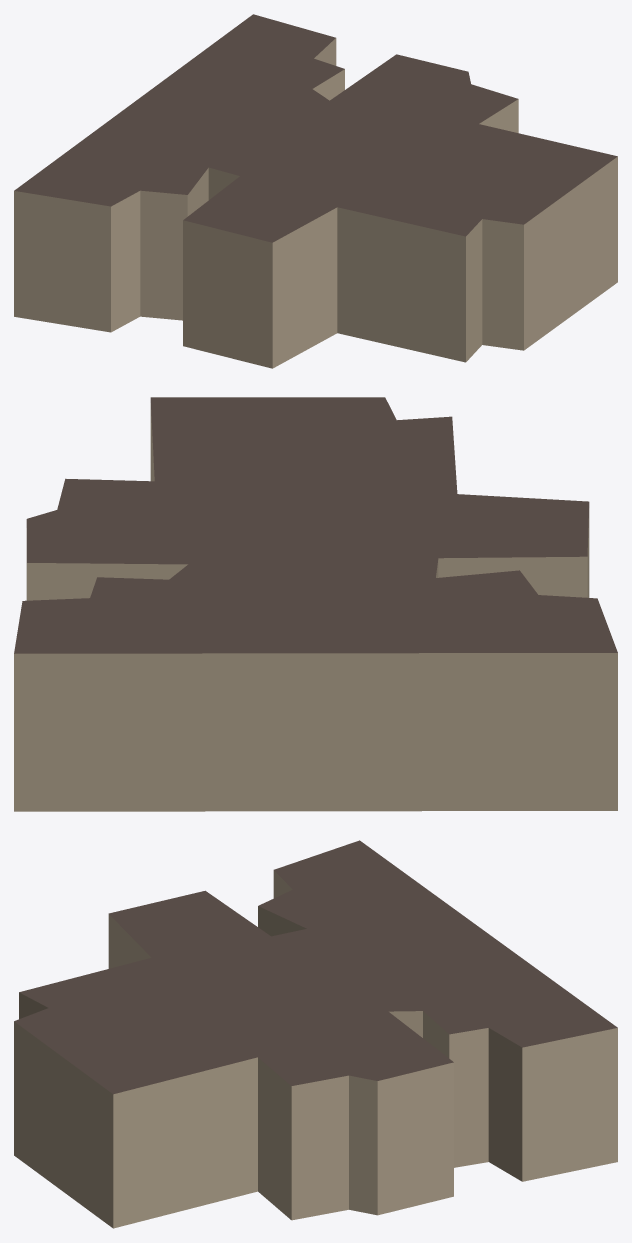
3 renders of one model, top to bottom at view 1: azimuth 30°, elevation 25°; view 2: azimuth 150°, elevation 25°; view 3: azimuth 270°, elevation 25°, orthographic. The views are drawn at different scales.
Visible parts, largest first — view 1: HP-w1512359834; view 2: HP-w1512359834; view 3: HP-w1512359834.
Part boxes in pixels (x1=…): HP-w1512359834: x1=14, y1=14, x2=617, y2=368; HP-w1512359834: x1=14, y1=397, x2=617, y2=811; HP-w1512359834: x1=14, y1=840, x2=617, y2=1228.
Size of the model in its own units: 36.51 by 9 by 36.7.
